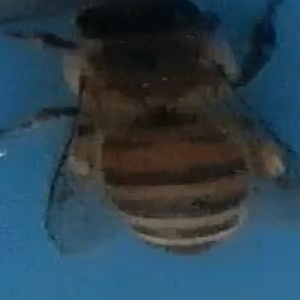bee: (12, 3, 290, 256)
